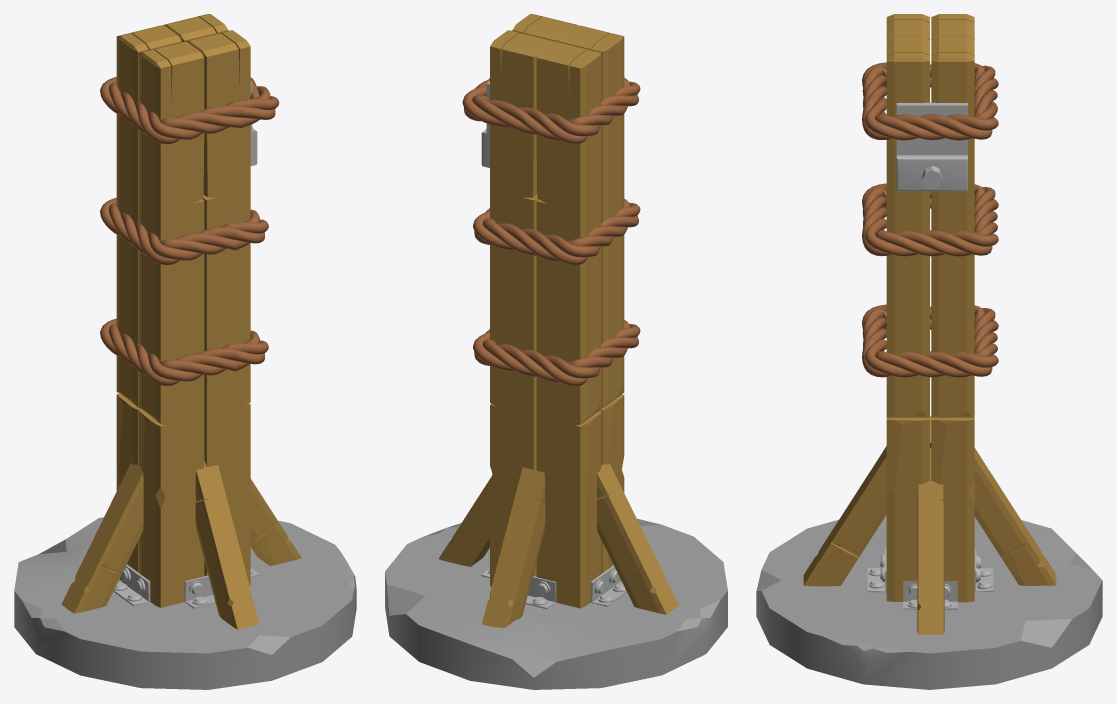
The picture shows the model from 3 angles, left to right: view 1: azimuth 30°, elevation 25°; view 2: azimuth 150°, elevation 25°; view 3: azimuth 270°, elevation 25°; orthographic projection.
Parts seen in each view (by area): view 1: Circle.004, Cube.001, Cube.005, Cube.003, Cube.007, Cube.002, seil.015, seil.016, seil.017, Cube.006, Cube.004, Plane.036 (+1 smaller); view 2: Circle.004, Cube.003, Cube.004, Cube.001, Cube.002, Cube.008, seil.015, seil.016, seil.017, Cube.006, Cube.005, Plane.036 (+1 smaller); view 3: Circle.004, Cube.005, Cube.004, seil.015, seil.017, seil.016, Cube.007, Plane.031, Cube.008, Cube.006, Cube.001, Cube.003 (+3 smaller).
Boxes of the visible parts, x1,y1,x2,y2 form: Circle.004: (14,517,356,689); Cube.001: (139,41,204,607); Cube.005: (185,30,250,585); Cube.003: (116,25,181,580); Cube.007: (195,461,259,629); Cube.002: (61,463,143,613); seil.015: (100,77,279,144); seil.016: (100,197,268,265); seil.017: (100,318,268,386); Cube.006: (250,479,301,565); Cube.004: (163,14,228,41); Plane.036: (113,564,150,606); Circle.004: (385,518,727,689); Cube.003: (536,41,601,608); Cube.004: (490,30,554,586); Cube.001: (559,25,624,581); Cube.002: (597,464,678,614); Cube.008: (482,463,545,627); seil.015: (462,78,640,143); seil.016: (473,199,640,265); seil.017: (473,320,640,386); Cube.006: (438,476,491,566); Cube.005: (512,14,577,41); Plane.036: (590,565,626,606); Circle.004: (756,515,1102,689); Cube.005: (886,36,929,601); Cube.004: (931,36,974,602); seil.015: (862,62,998,140); seil.017: (862,304,998,377); seil.016: (862,183,998,256); Cube.007: (803,446,886,586); Plane.031: (896,102,967,191); Cube.008: (974,448,1056,585); Cube.006: (917,447,944,634); Cube.001: (886,14,929,39); Cube.003: (931,14,974,39).
Bounding box in the file's own units: 212 × 391 × 212.
